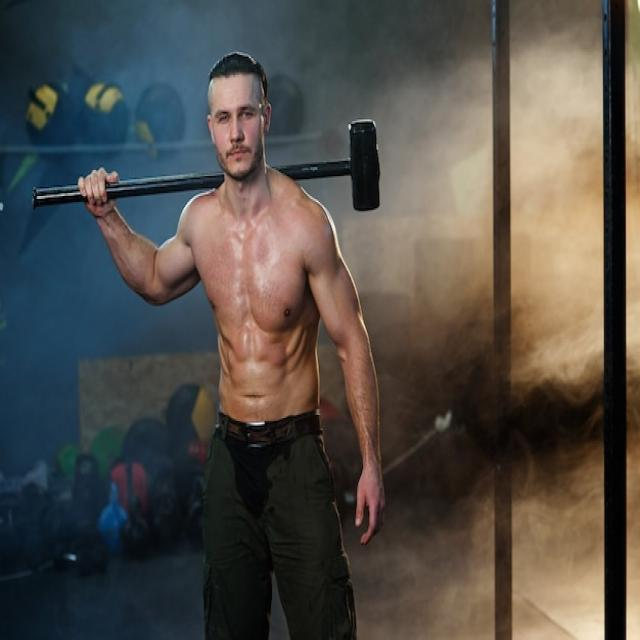hammer: (26, 112, 387, 226)
